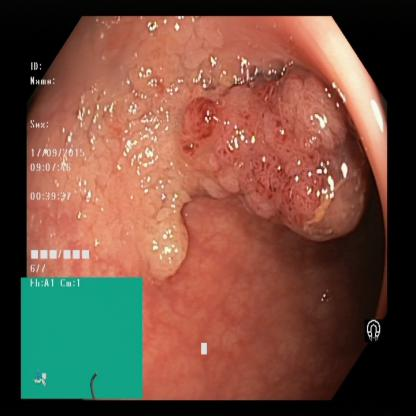Labels: (27, 58, 100, 274), (22, 279, 145, 400), (355, 306, 388, 347)
Polyps: (197, 88, 373, 238), (125, 149, 204, 286)
